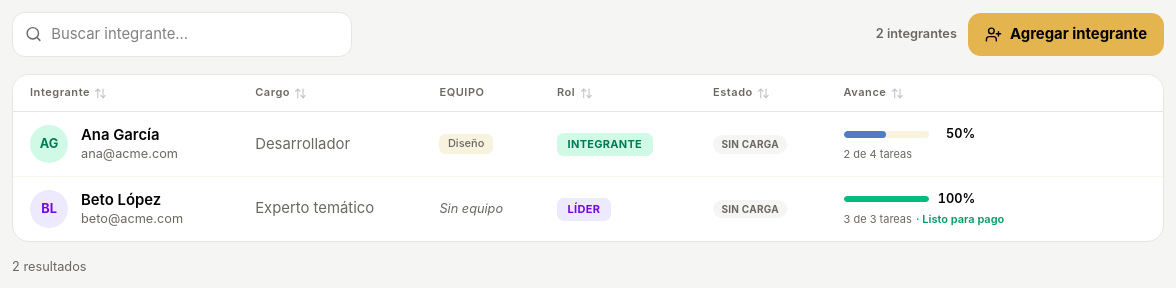
Scenario: MembersPanel › filters by name as the user types
Expected: the text "Ana García" is shown, [81,126,160,144]
Type "beto" into the search field labelled "Buscar integrante" at (182, 34), box [12,12,352,56]
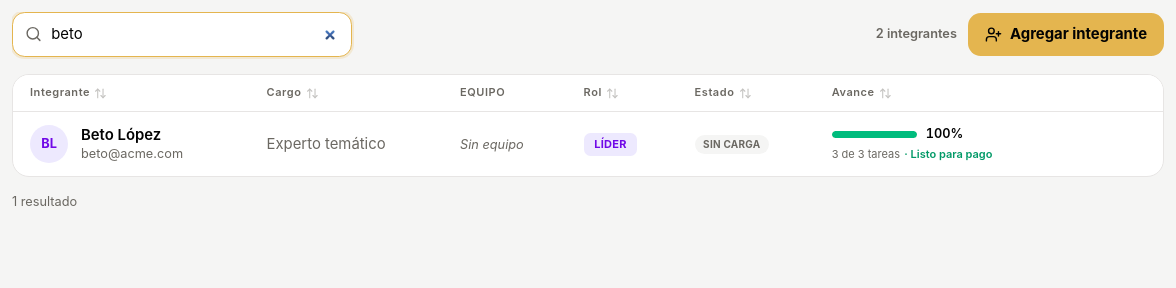
Expected: the text "Beto López" is shown, [81,126,161,144]
Now the text "Ana García" is gone
